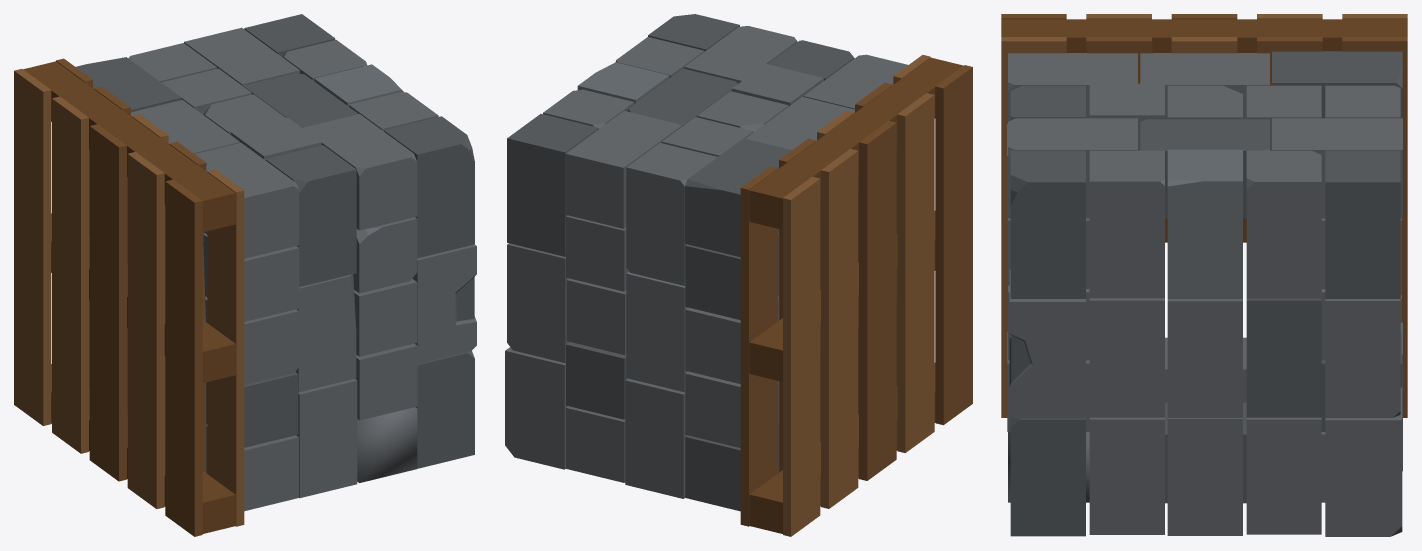
File: RocksPalletBroke.fbx
3 views of the same model, side by side, from view 1: azimuth 30°, elevation 25°; view 2: azimuth 150°, elevation 25°; view 3: azimuth 270°, elevation 25° (orthographic). The views are drawn at different scales.
Parts seen in each view (by area): view 1: Pallet_02__4__fracturepart14_6, Pallet_02__4__fracturepart11_11, Pallet_02__4__fracturepart2_3, Pallet_02__4__fracturepart18_11, Pallet_02__4__fracturepart18_3, Pallet_02__4__fracturepart7_5, Pallet_02__4__fracturepart19_10, Pallet_02__4__fracturepart11_10, Pallet_02__4__fracturepart2_2, Pallet_02__4__fracturepart15_7, Pallet_02__4__fracturepart18_12, Pallet_02__4__fracturepart2_5 (+53 smaller); view 2: Pallet_02__4__fracturepart14_6, Pallet_02__4__fracturepart11_11, Pallet_02__4__fracturepart1_8, Pallet_02__4__fracturepart14_5, Pallet_02__4__fracturepart1_7, Pallet_02__4__fracturepart4_2, Pallet_02__4__fracturepart20_16, Pallet_02__4__fracturepart11_10, Pallet_02__4__fracturepart3_2, Pallet_02__4__fracturepart19_10, Pallet_02__4__fracturepart7_5, Pallet_02__4__fracturepart16 (+56 smaller); view 3: Pallet_02__4__fracturepart1_8, Pallet_02__4__fracturepart10_4, Pallet_02__4__fracturepart10_5, Pallet_02__4__fracturepart10, Pallet_02__4__fracturepart13_3, Pallet_02__4__fracturepart13_7, Pallet_02__4__fracturepart3_2, Pallet_02__4__fracturepart18_3, Pallet_02__4__fracturepart9_5, Pallet_02__4__fracturepart9_18, Pallet_02__4__fracturepart10_3, Pallet_02__4__fracturepart16 (+49 smaller).
Boxes of the visible parts, x1=… form: Pallet_02__4__fracturepart14_6: x1=14, y1=154, x2=51, y2=421; Pallet_02__4__fracturepart11_11: x1=52, y1=191, x2=88, y2=418; Pallet_02__4__fracturepart2_3: x1=272, y1=153, x2=356, y2=285; Pallet_02__4__fracturepart18_11: x1=296, y1=378, x2=357, y2=498; Pallet_02__4__fracturepart18_3: x1=415, y1=351, x2=474, y2=468; Pallet_02__4__fracturepart7_5: x1=165, y1=287, x2=202, y2=453; Pallet_02__4__fracturepart19_10: x1=127, y1=152, x2=164, y2=316; Pallet_02__4__fracturepart11_10: x1=89, y1=199, x2=126, y2=392; Pallet_02__4__fracturepart2_2: x1=335, y1=145, x2=417, y2=230; Pallet_02__4__fracturepart15_7: x1=207, y1=209, x2=244, y2=359; Pallet_02__4__fracturepart18_12: x1=355, y1=343, x2=417, y2=420; Pallet_02__4__fracturepart2_5: x1=353, y1=217, x2=417, y2=293; Pallet_02__4__fracturepart14_6: x1=783, y1=272, x2=820, y2=536; Pallet_02__4__fracturepart11_11: x1=821, y1=225, x2=858, y2=495; Pallet_02__4__fracturepart1_8: x1=507, y1=114, x2=598, y2=256; Pallet_02__4__fracturepart14_5: x1=740, y1=262, x2=778, y2=496; Pallet_02__4__fracturepart1_7: x1=565, y1=111, x2=654, y2=228; Pallet_02__4__fracturepart4_2: x1=685, y1=142, x2=791, y2=257; Pallet_02__4__fracturepart20_16: x1=625, y1=379, x2=687, y2=498; Pallet_02__4__fracturepart11_10: x1=859, y1=217, x2=896, y2=412; Pallet_02__4__fracturepart3_2: x1=505, y1=347, x2=567, y2=467; Pallet_02__4__fracturepart19_10: x1=897, y1=93, x2=934, y2=277; Pallet_02__4__fracturepart7_5: x1=935, y1=161, x2=972, y2=327; Pallet_02__4__fracturepart16: x1=507, y1=263, x2=569, y2=363; Pallet_02__4__fracturepart1_8: x1=1325, y1=150, x2=1400, y2=298; Pallet_02__4__fracturepart10_4: x1=1167, y1=153, x2=1242, y2=298; Pallet_02__4__fracturepart10_5: x1=1089, y1=154, x2=1164, y2=298; Pallet_02__4__fracturepart10: x1=1010, y1=154, x2=1085, y2=290; Pallet_02__4__fracturepart13_3: x1=1167, y1=418, x2=1242, y2=535; Pallet_02__4__fracturepart13_7: x1=1246, y1=417, x2=1321, y2=534; Pallet_02__4__fracturepart3_2: x1=1325, y1=407, x2=1402, y2=536; Pallet_02__4__fracturepart18_3: x1=1010, y1=416, x2=1085, y2=536; Pallet_02__4__fracturepart9_5: x1=1009, y1=270, x2=1085, y2=418; Pallet_02__4__fracturepart9_18: x1=1089, y1=298, x2=1164, y2=417; Pallet_02__4__fracturepart10_3: x1=1246, y1=154, x2=1299, y2=298; Pallet_02__4__fracturepart16: x1=1325, y1=317, x2=1400, y2=400.
Bounding box in the file's own units: 90 × 100 × 98.32.
Materials: 1 (1 with a texture image).
